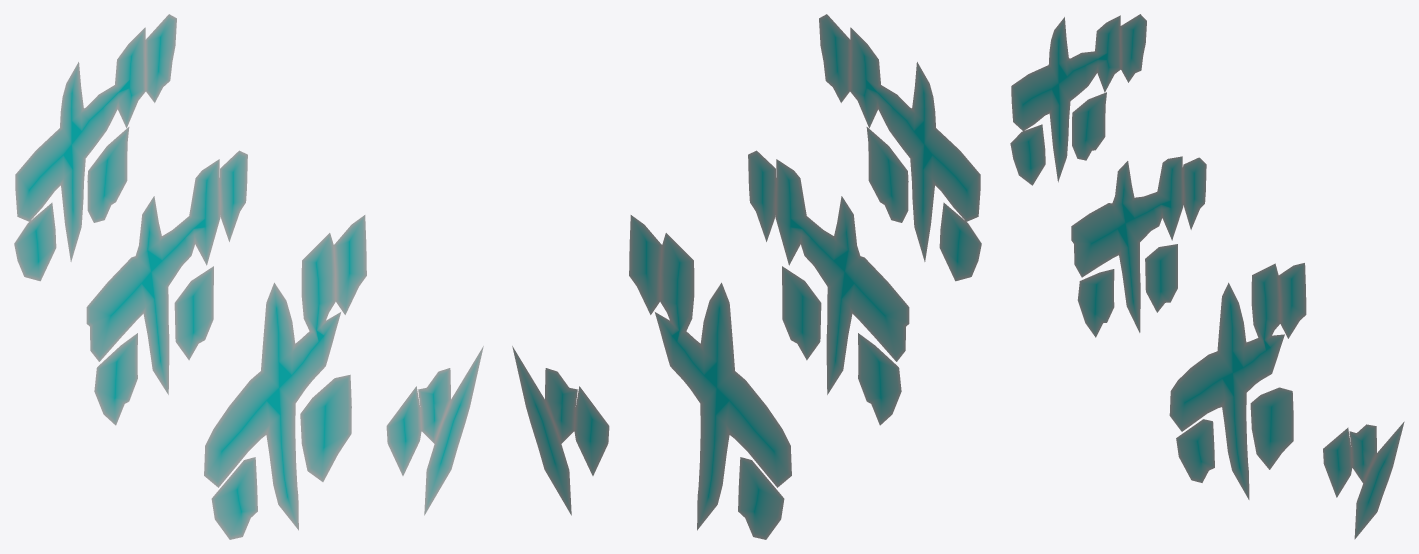
Rendered from SM_EFF_Text_D53NJ2_01.glb.
3 renders of one model, left to right at view 1: azimuth 30°, elevation 25°; view 2: azimuth 150°, elevation 25°; view 3: azimuth 330°, elevation 25°, orthographic. The views are drawn at different scales.
Parts seen in each view (by area): view 1: SM_EFF_Text_D53NJ2_01; view 2: SM_EFF_Text_D53NJ2_01; view 3: SM_EFF_Text_D53NJ2_01.
Boxes of the visible parts, <box> form: SM_EFF_Text_D53NJ2_01: <box>14,14,483,539</box>; SM_EFF_Text_D53NJ2_01: <box>512,14,981,539</box>; SM_EFF_Text_D53NJ2_01: <box>1010,14,1404,539</box>.
Bounding box in the file's own units: 0.7996 × 0.918 × 1.51e-15.
